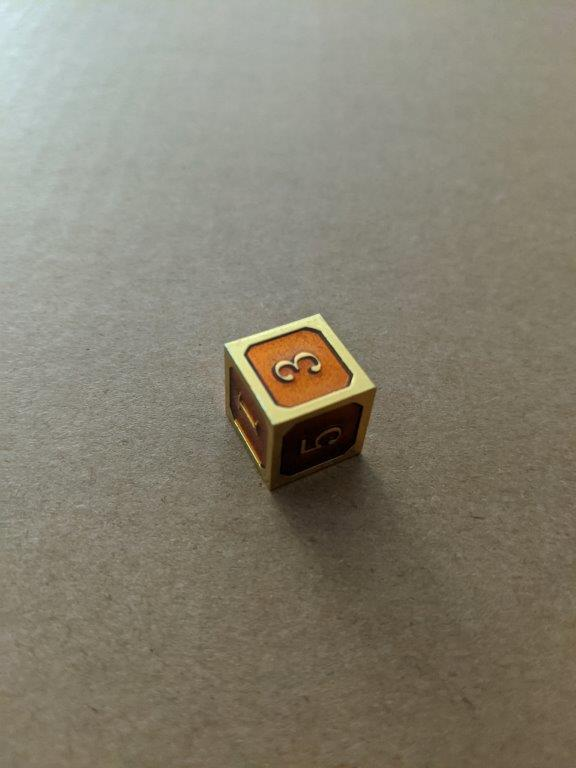d6-3: (224, 310, 379, 490)
